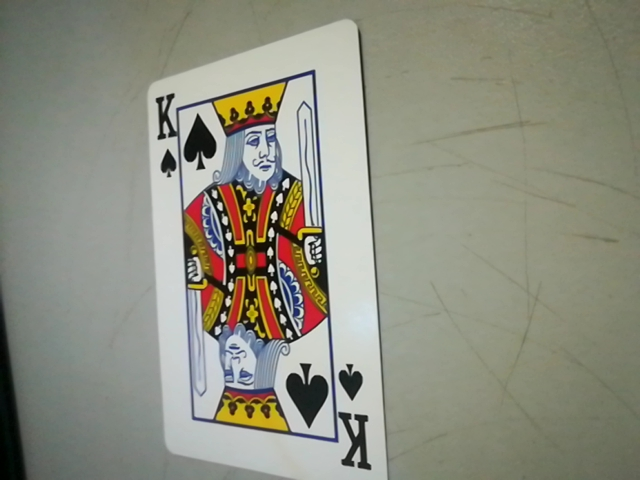ht k: (327, 357, 382, 480)
